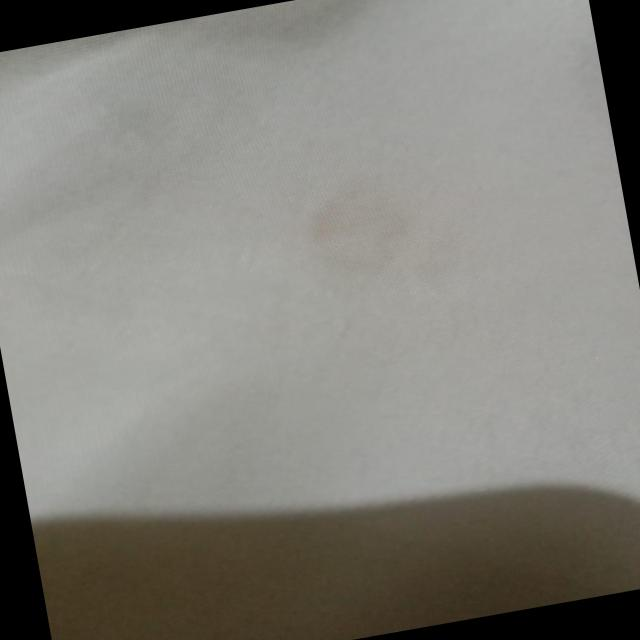stain: (275, 154, 442, 308)
